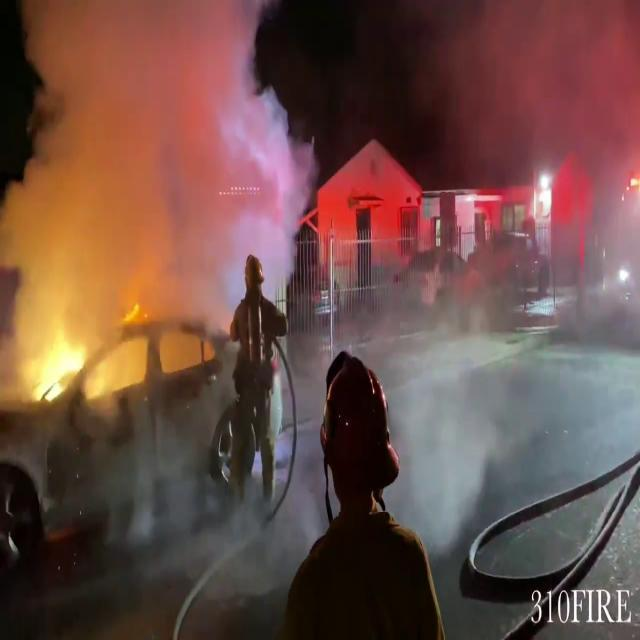Fire: (25, 318, 90, 412)
Smoke: (0, 1, 309, 327), (378, 258, 640, 544)
